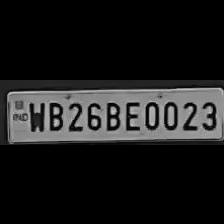0: (160, 97, 180, 129), (142, 97, 160, 129)
2: (179, 97, 199, 130), (64, 98, 82, 132)
3: (198, 97, 218, 130)
6: (83, 98, 101, 132)
B: (45, 98, 63, 132), (102, 97, 120, 130)
E: (122, 97, 140, 131)
W: (26, 98, 44, 132)
